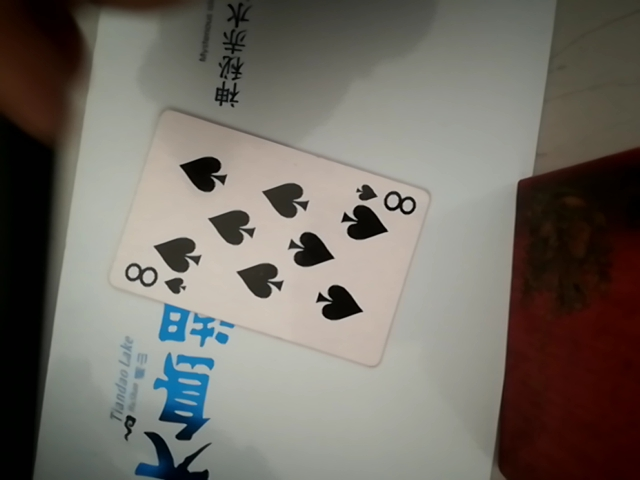ht 8: (108, 110, 433, 372)
